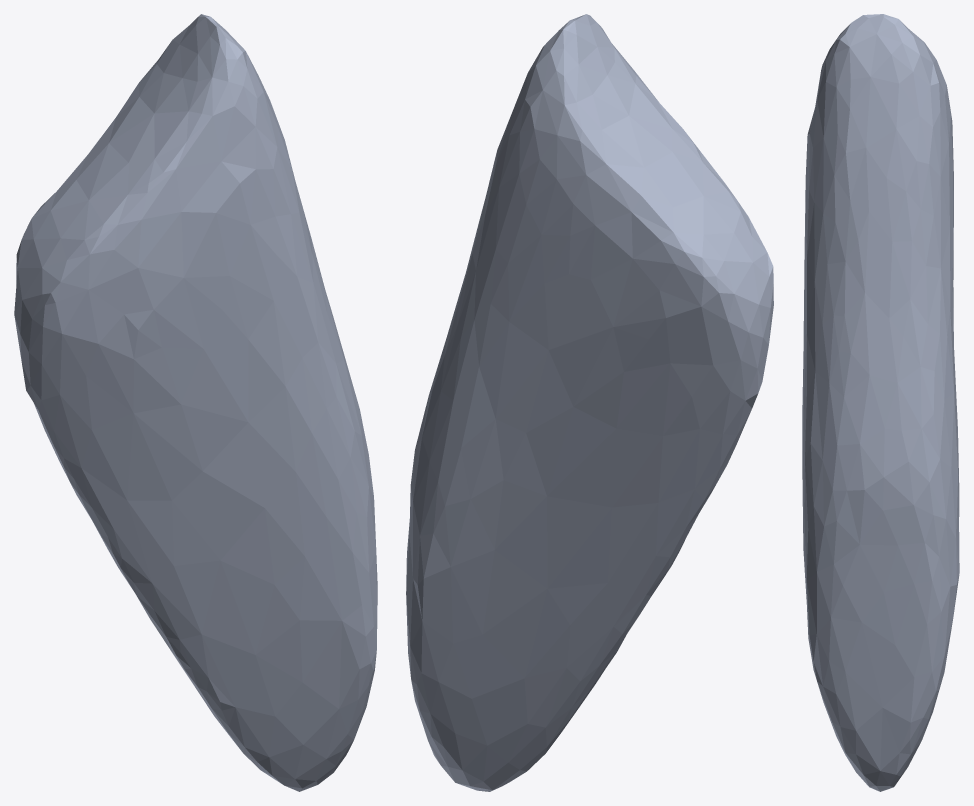
3 views of the same model, side by side, from view 1: azimuth 30°, elevation 25°; view 2: azimuth 150°, elevation 25°; view 3: azimuth 270°, elevation 25° (orthographic). The views are drawn at different scales.
Parts seen in each view (by area): view 1: 564.obj; view 2: 564.obj; view 3: 564.obj.
Part boxes in pixels (x1,y1,x2,y2): 564.obj: (14, 14, 377, 791); 564.obj: (406, 14, 773, 791); 564.obj: (802, 14, 959, 791).
Size of the model in its own units: 969 by 2206 by 429.
